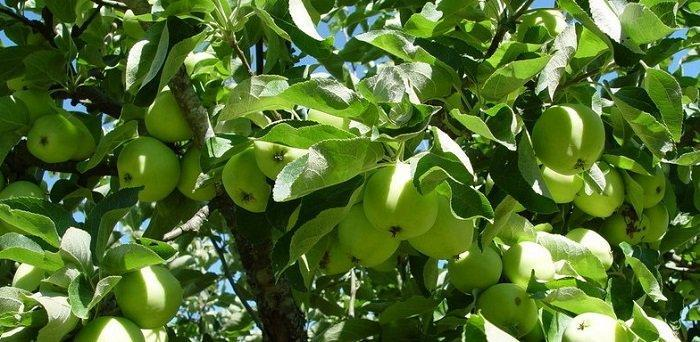apple: (362, 158, 438, 242), (530, 99, 606, 177), (113, 136, 181, 202), (339, 200, 402, 271), (112, 266, 184, 328), (408, 196, 472, 262), (220, 145, 274, 214), (477, 281, 541, 337), (446, 239, 503, 295), (502, 238, 557, 290), (144, 85, 194, 142), (27, 110, 78, 164), (179, 145, 219, 205), (253, 141, 311, 180)
